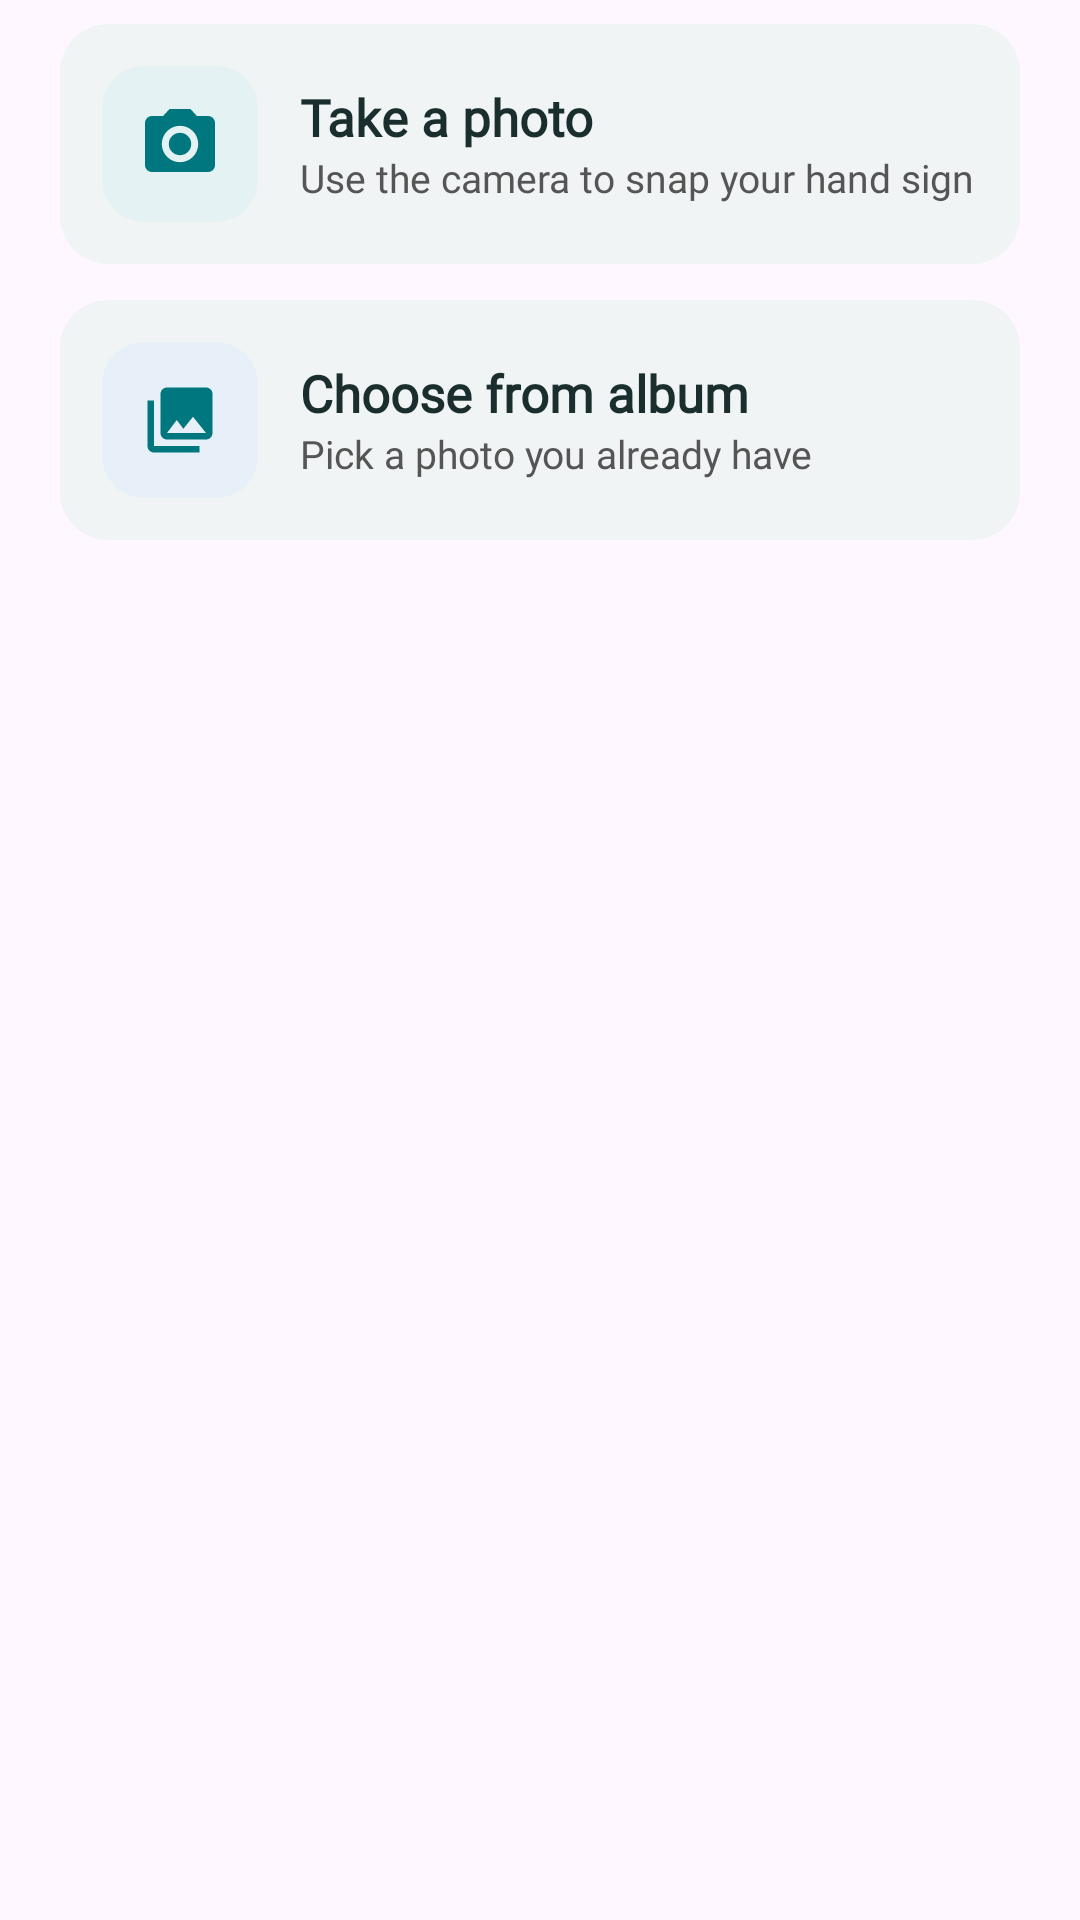

Icon click points for this 1080*1920 phone screenshot, format (x=x, y=y):
photo library: (x=180, y=420)
